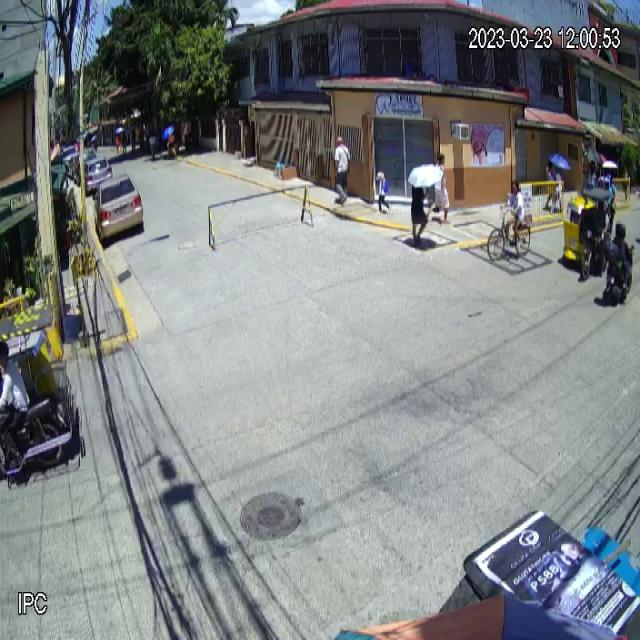Tricycle: (562, 182, 613, 280)
